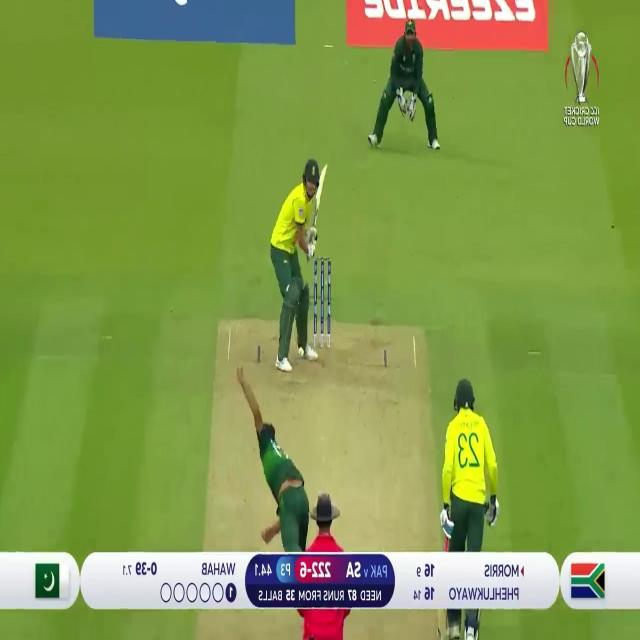ball: (296, 342, 306, 363)
